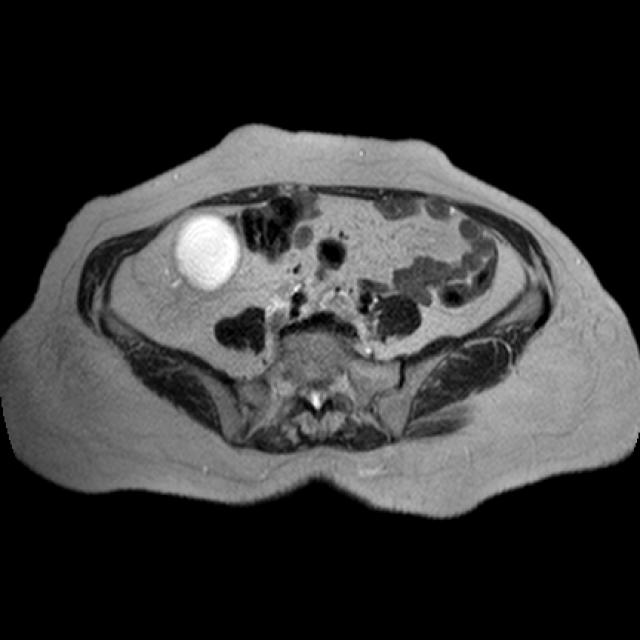sag: (171, 210, 243, 295)
